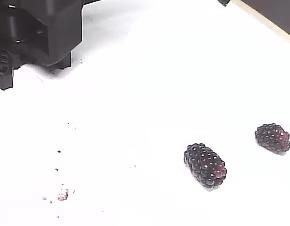berry: (184, 143, 226, 188), (255, 123, 289, 154)
red drouplet: (278, 131, 288, 141), (214, 171, 224, 177), (216, 164, 224, 170)
